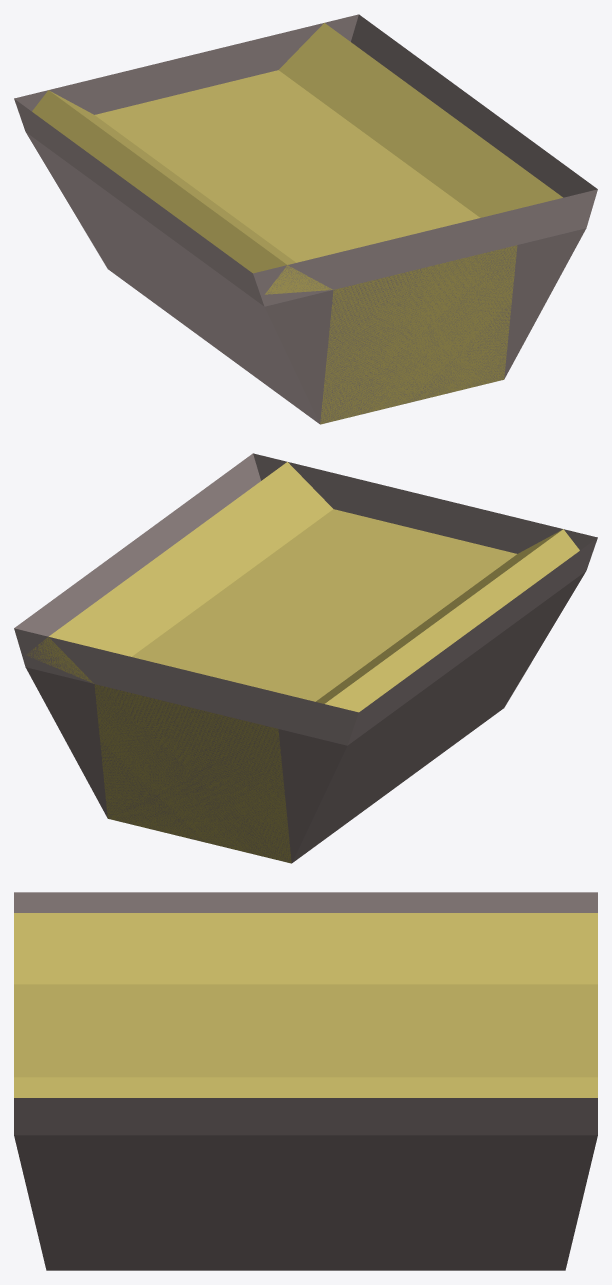
The model's file is inv_raw_batta.obj.
3 views of the same model, one above another, from view 1: azimuth 30°, elevation 25°; view 2: azimuth 150°, elevation 25°; view 3: azimuth 270°, elevation 25° (orthographic). The views are drawn at different scales.
Bounding box in the file's own units: 0.2344 × 0.1172 × 0.2812.
